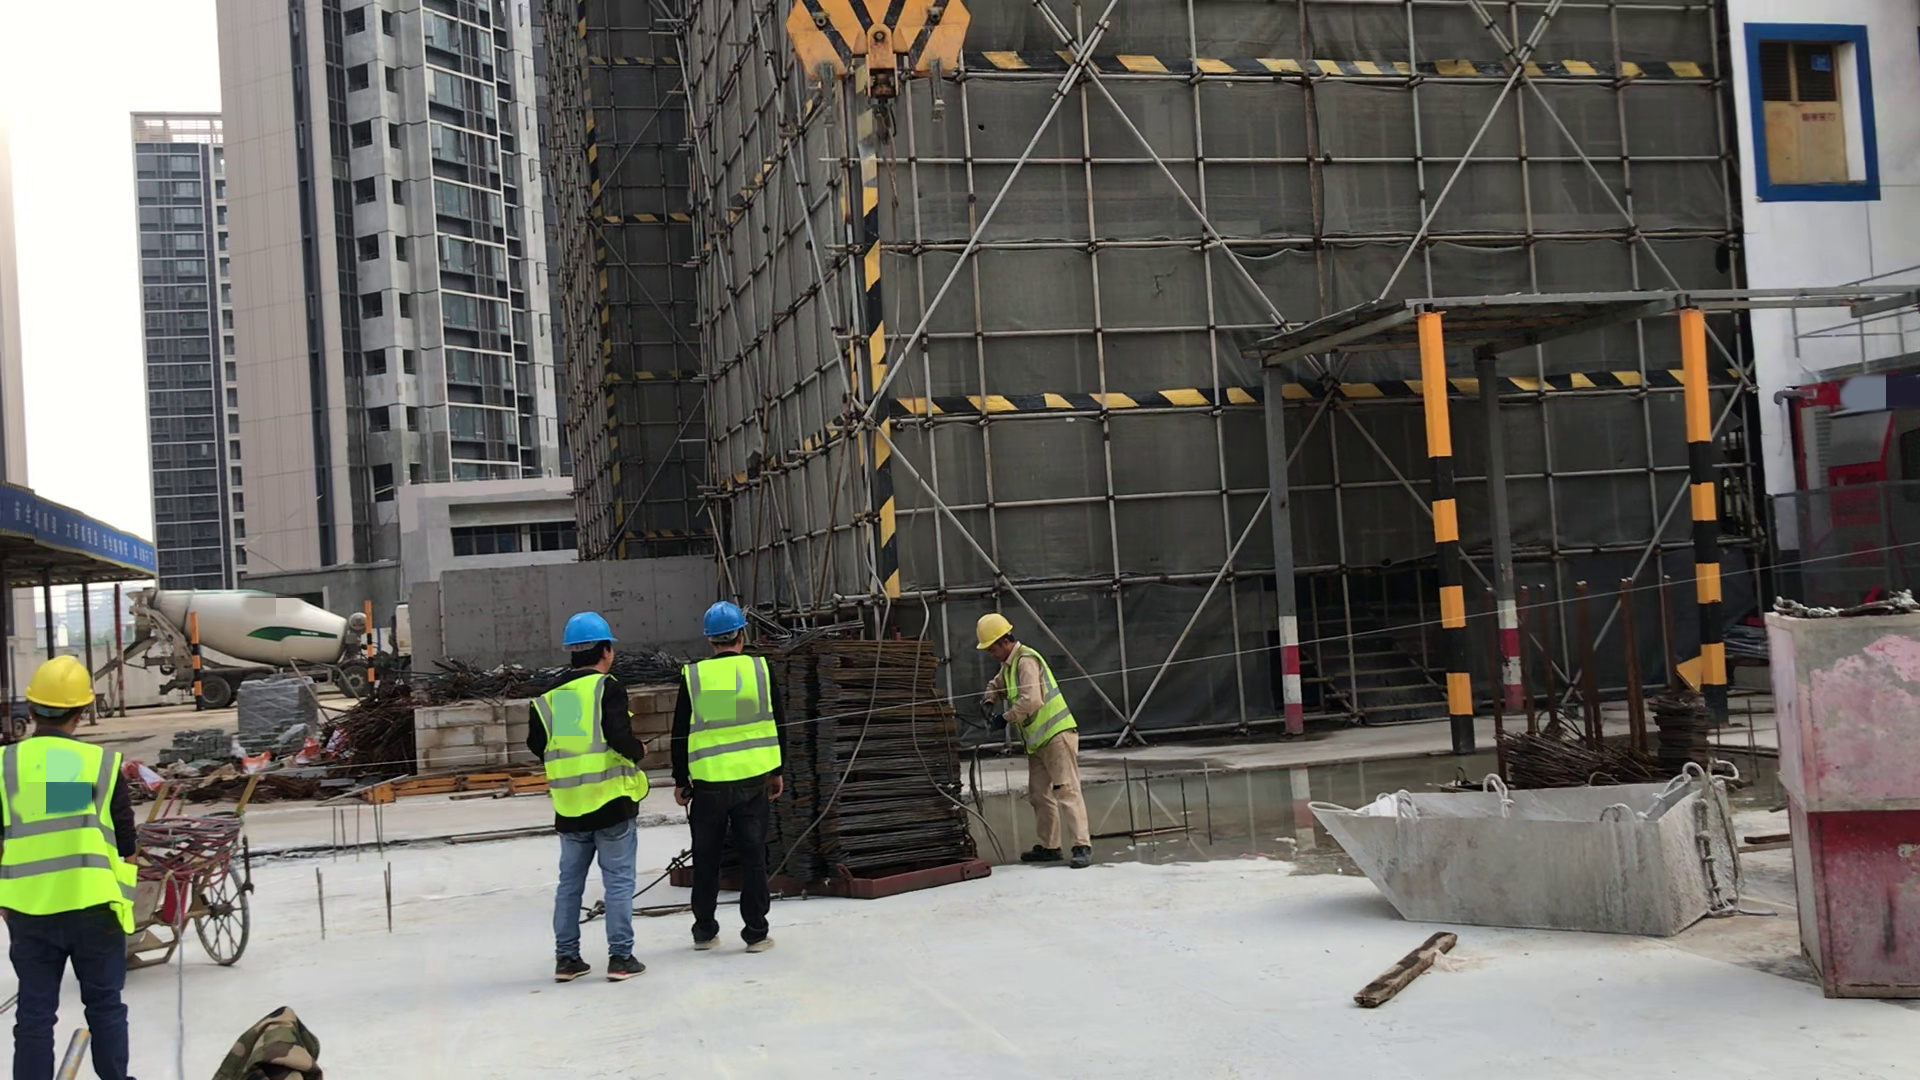handcart: (137, 752, 262, 969), (97, 691, 108, 716)
helmet: (25, 658, 100, 715), (563, 612, 618, 657), (700, 598, 754, 641), (971, 616, 1017, 650)
hook: (773, 6, 982, 132)
hopper: (1306, 778, 1752, 942)
person: (8, 654, 157, 1080), (515, 611, 648, 989), (673, 597, 791, 961), (962, 611, 1101, 872)
slogan: (6, 490, 96, 548), (100, 526, 159, 582)
vest: (3, 735, 138, 938), (534, 676, 649, 828), (686, 654, 785, 786), (1006, 652, 1082, 753)
